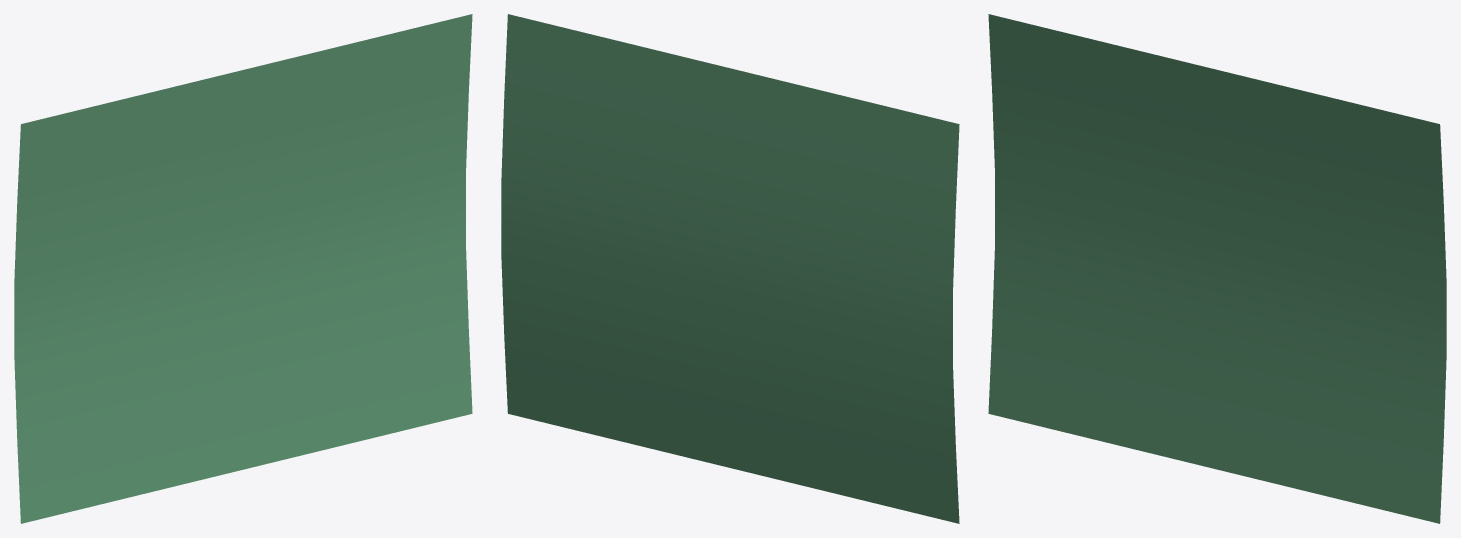
The model's file is Pantalla Noise.fbx.
3 renders of one model, left to right at view 1: azimuth 30°, elevation 25°; view 2: azimuth 150°, elevation 25°; view 3: azimuth 330°, elevation 25°, orthographic.
Visible parts, largest first — view 1: Pantalla_Noise; view 2: Pantalla_Noise; view 3: Pantalla_Noise.
Part boxes in pixels (box(x1,y1,x2,y2)): Pantalla_Noise: box(14, 14, 472, 523); Pantalla_Noise: box(501, 14, 959, 523); Pantalla_Noise: box(988, 14, 1446, 523).
Bounding box in the file's own units: 56.01 × 47.37 × 1.38.
